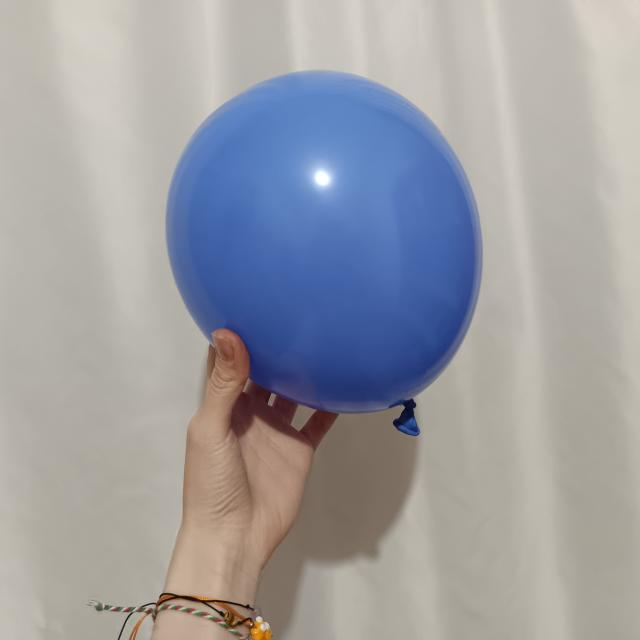blue: (167, 70, 485, 438)
